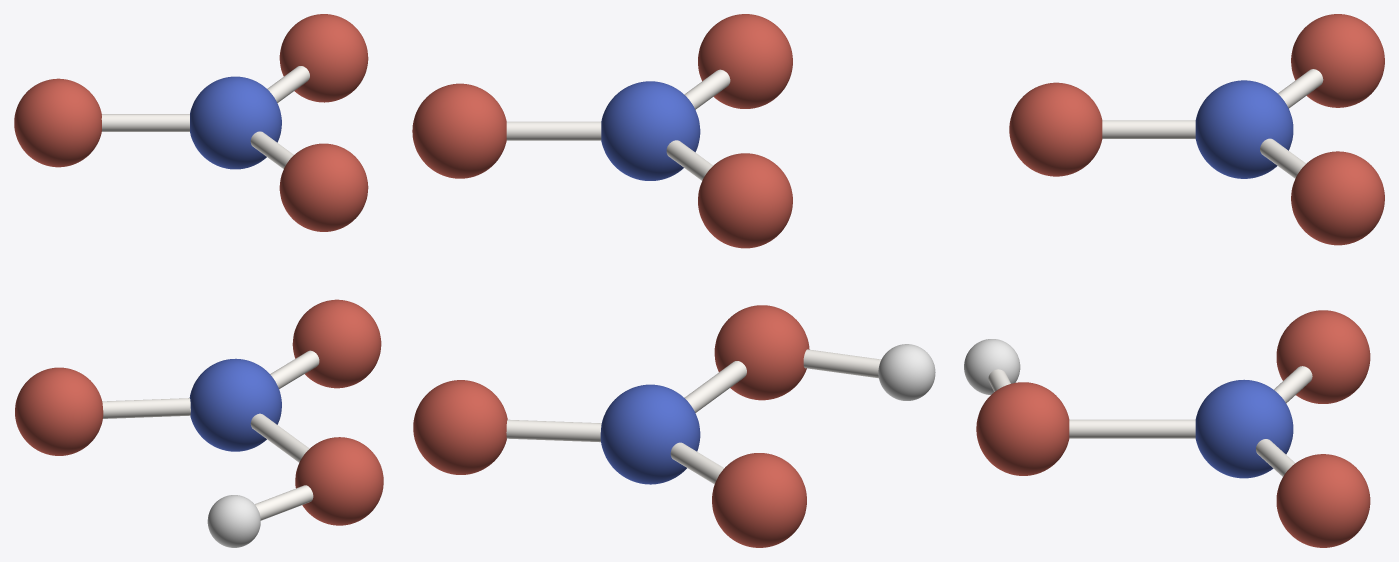
File: s129 8.05 kyselina dusičná.glb
3 views of the same model, side by side, from view 1: azimuth 30°, elevation 25°; view 2: azimuth 150°, elevation 25°; view 3: azimuth 270°, elevation 25° (orthographic). The views are drawn at different scales.
Visible parts, largest first — view 1: Sphere 3 (×2), Sphere 7 (×2), Sphere 6 (×2), Sphere 10 (×2), Cylinder 4 (×2), Sphere, Cylinder 3 (×2), Cylinder 5 (×2), Cylinder; view 2: Sphere 3 (×2), Sphere 7 (×2), Sphere 10 (×2), Sphere 6 (×2), Cylinder 5 (×2), Sphere, Cylinder 3 (×2), Cylinder 4 (×2), Cylinder; view 3: Sphere 3 (×2), Sphere 6 (×2), Sphere 10 (×2), Sphere 7 (×2), Cylinder 3 (×2), Sphere, Cylinder 5 (×2), Cylinder 4 (×2).
Part boxes in pixels (x1,y1,x2,y2): Sphere 3 (×2): (189,76,281,451); Sphere 7 (×2): (14,78,103,455); Sphere 6 (×2): (279,143,383,525); Sphere 10 (×2): (279,14,381,388); Cylinder 4 (×2): (101,114,190,418); Sphere: (207,495,260,547); Cylinder 3 (×2): (250,131,309,462); Cylinder 5 (×2): (267,66,319,388); Cylinder: (255,485,313,520); Sphere 3 (×2): (600,81,700,484); Sphere 7 (×2): (698,153,806,547); Sphere 10 (×2): (412,83,507,474); Sphere 6 (×2): (698,14,809,400); Cylinder 5 (×2): (506,121,601,442); Sphere: (878,344,935,400); Cylinder 3 (×2): (684,69,746,412); Cylinder 4 (×2): (666,140,724,484); Cylinder: (803,349,881,378); Sphere 3 (×2): (1195,80,1293,478); Sphere 6 (×2): (976,82,1102,475); Sphere 10 (×2): (1276,151,1384,547); Sphere 7 (×2): (1276,14,1384,403); Cylinder 3 (×2): (1069,120,1195,438); Sphere: (964,339,1020,394); Cylinder 5 (×2): (1256,138,1305,476); Cylinder 4 (×2): (1274,69,1323,403).
Size of the model in its own units: 0.9254 by 0.9138 by 0.8967.
